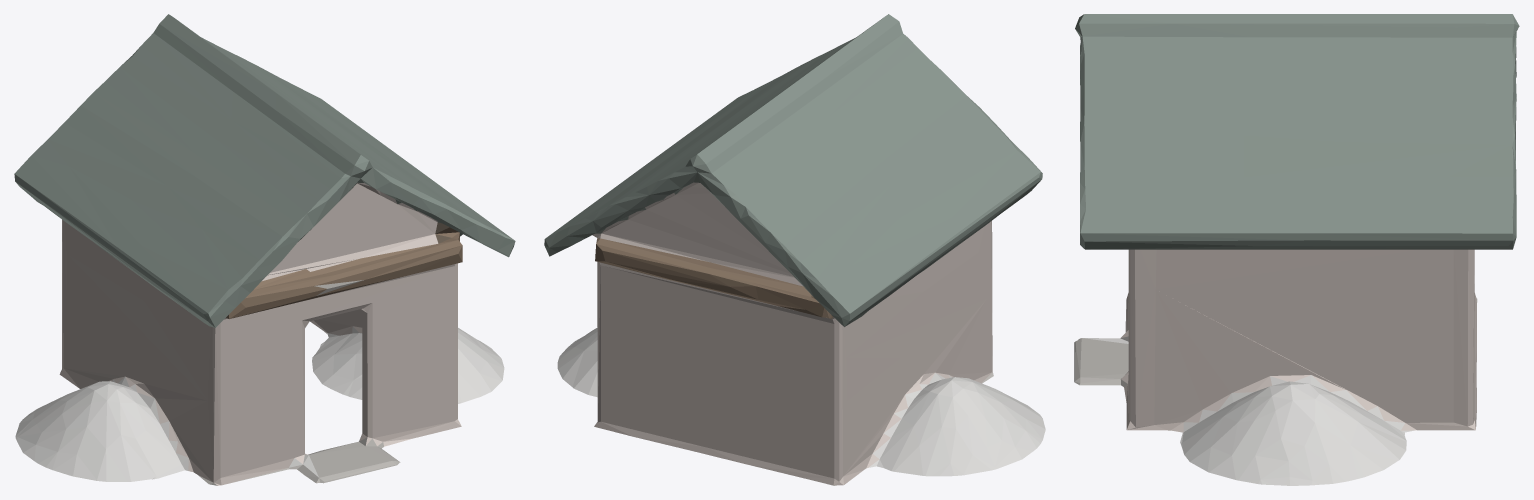
The picture shows the model from 3 angles, left to right: view 1: azimuth 30°, elevation 25°; view 2: azimuth 150°, elevation 25°; view 3: azimuth 270°, elevation 25°; orthographic projection. The views are drawn at different scales.
Visible parts, largest first — view 1: geometry_0; view 2: geometry_0; view 3: geometry_0.
Boxes of the visible parts, x1=… form: geometry_0: x1=14, y1=14, x2=515, y2=485; geometry_0: x1=544, y1=14, x2=1045, y2=485; geometry_0: x1=1074, y1=14, x2=1519, y2=485.
Size of the model in its own units: 0.9177 by 0.6026 by 0.6927.
